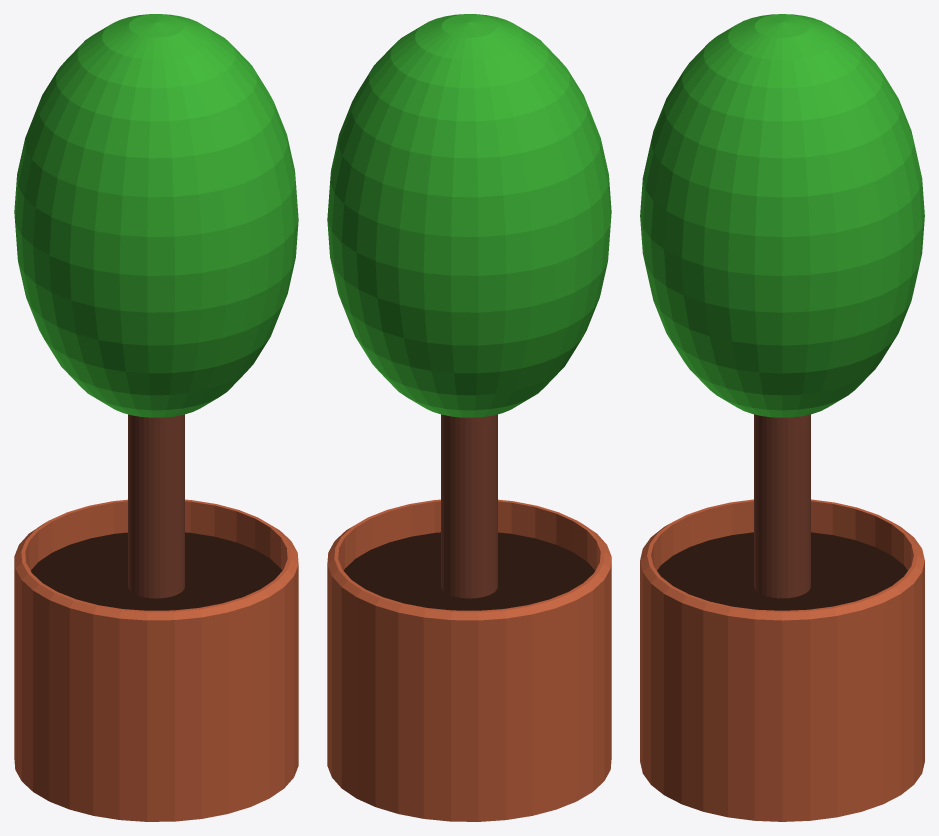
File: potplant.glb
3 views of the same model, side by side, from view 1: azimuth 30°, elevation 25°; view 2: azimuth 150°, elevation 25°; view 3: azimuth 270°, elevation 25° (orthographic).
Visible parts, largest first — view 1: Cylinder; view 2: Cylinder; view 3: Cylinder.
Boxes of the visible parts, <box> form: Cylinder: <box>14,14,298,821</box>; Cylinder: <box>327,14,611,821</box>; Cylinder: <box>640,14,924,821</box>.
Bounding box in the file's own units: 1 × 2.86 × 1.
